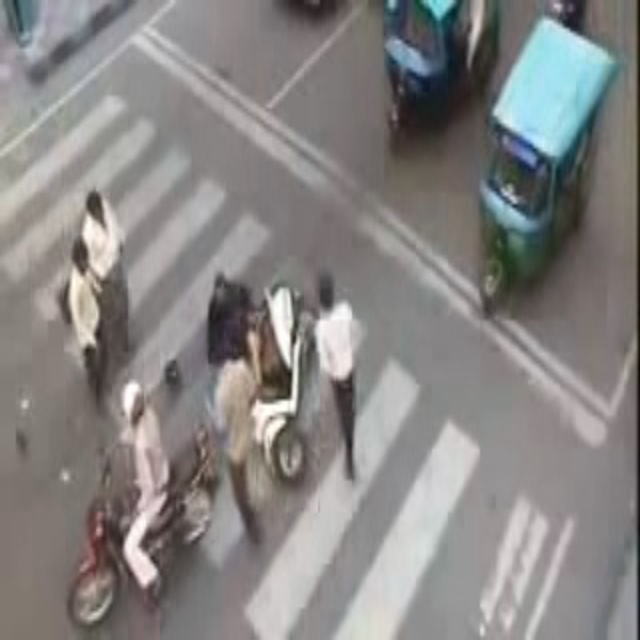acc: (185, 269, 324, 485)
